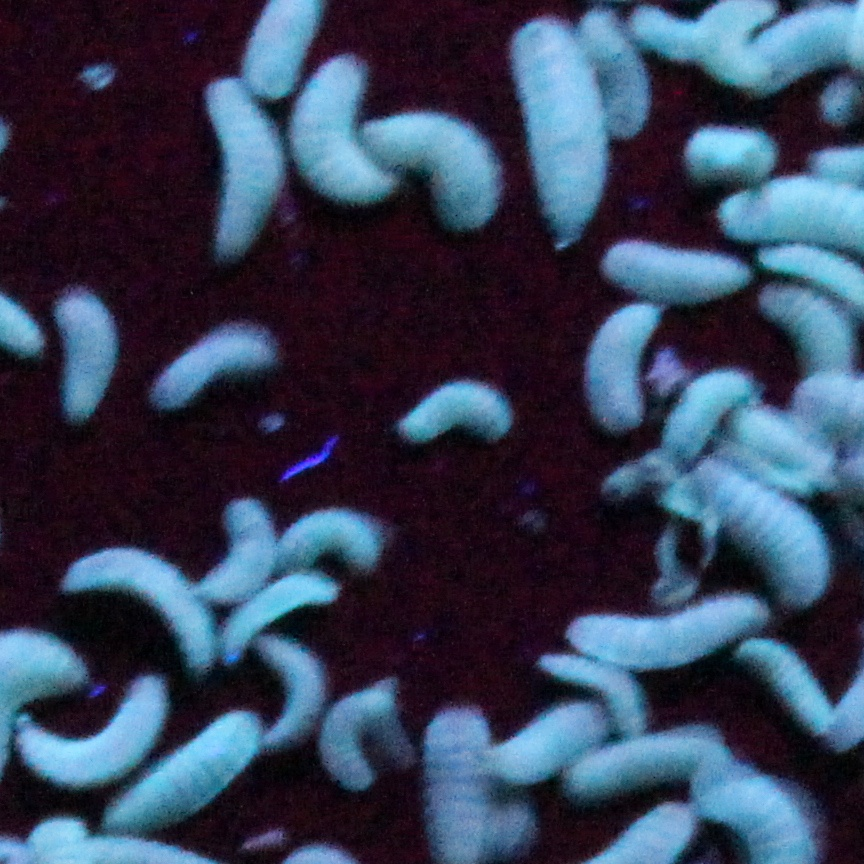larve: (181, 77, 286, 266), (510, 30, 600, 233), (65, 539, 191, 662), (386, 100, 496, 233), (150, 313, 278, 423), (560, 593, 756, 660), (324, 666, 414, 810), (38, 286, 123, 430), (18, 693, 154, 783), (401, 375, 526, 471), (277, 493, 396, 575), (249, 634, 322, 762), (171, 710, 251, 826), (614, 232, 750, 299), (568, 748, 716, 808), (197, 490, 276, 592), (593, 302, 651, 439), (297, 85, 366, 195), (487, 694, 610, 753), (729, 490, 813, 576), (768, 640, 827, 746), (694, 2, 766, 86), (603, 26, 651, 143), (781, 300, 851, 369), (683, 126, 777, 177), (768, 2, 850, 60), (534, 660, 666, 692), (667, 375, 736, 436), (270, 579, 336, 616)
